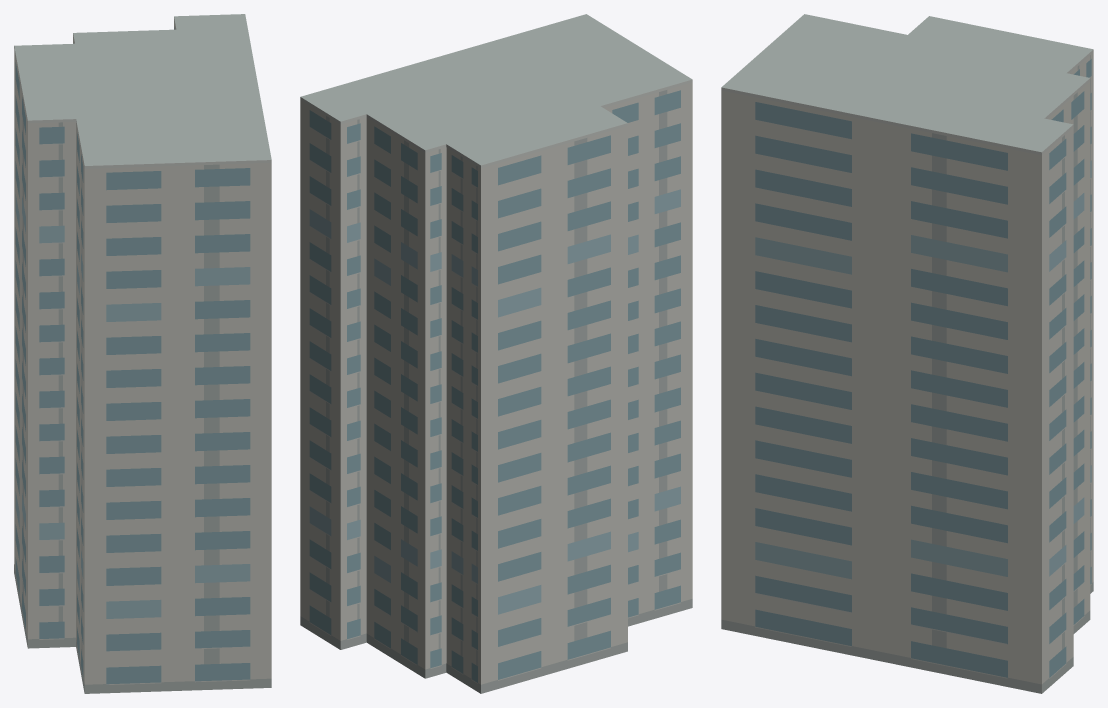
Rendered from residential-456f3a6e-1cf8-412d-8107-5bd8b201533e.glb.
3 renders of one model, left to right at view 1: azimuth 30°, elevation 25°; view 2: azimuth 150°, elevation 25°; view 3: azimuth 270°, elevation 25°, orthographic. The views are drawn at different scales.
Parts seen in each view (by area): view 1: residential-456f3a6e-1cf8-412d-8107-5bd8b201533e.tmp; view 2: residential-456f3a6e-1cf8-412d-8107-5bd8b201533e.tmp; view 3: residential-456f3a6e-1cf8-412d-8107-5bd8b201533e.tmp.
Boxes of the visible parts, x1,y1,x2,y2 form: residential-456f3a6e-1cf8-412d-8107-5bd8b201533e.tmp: [14, 14, 271, 693]; residential-456f3a6e-1cf8-412d-8107-5bd8b201533e.tmp: [300, 14, 692, 693]; residential-456f3a6e-1cf8-412d-8107-5bd8b201533e.tmp: [721, 14, 1093, 693].
Size of the model in its own units: 24.11 by 44 by 27.43.
